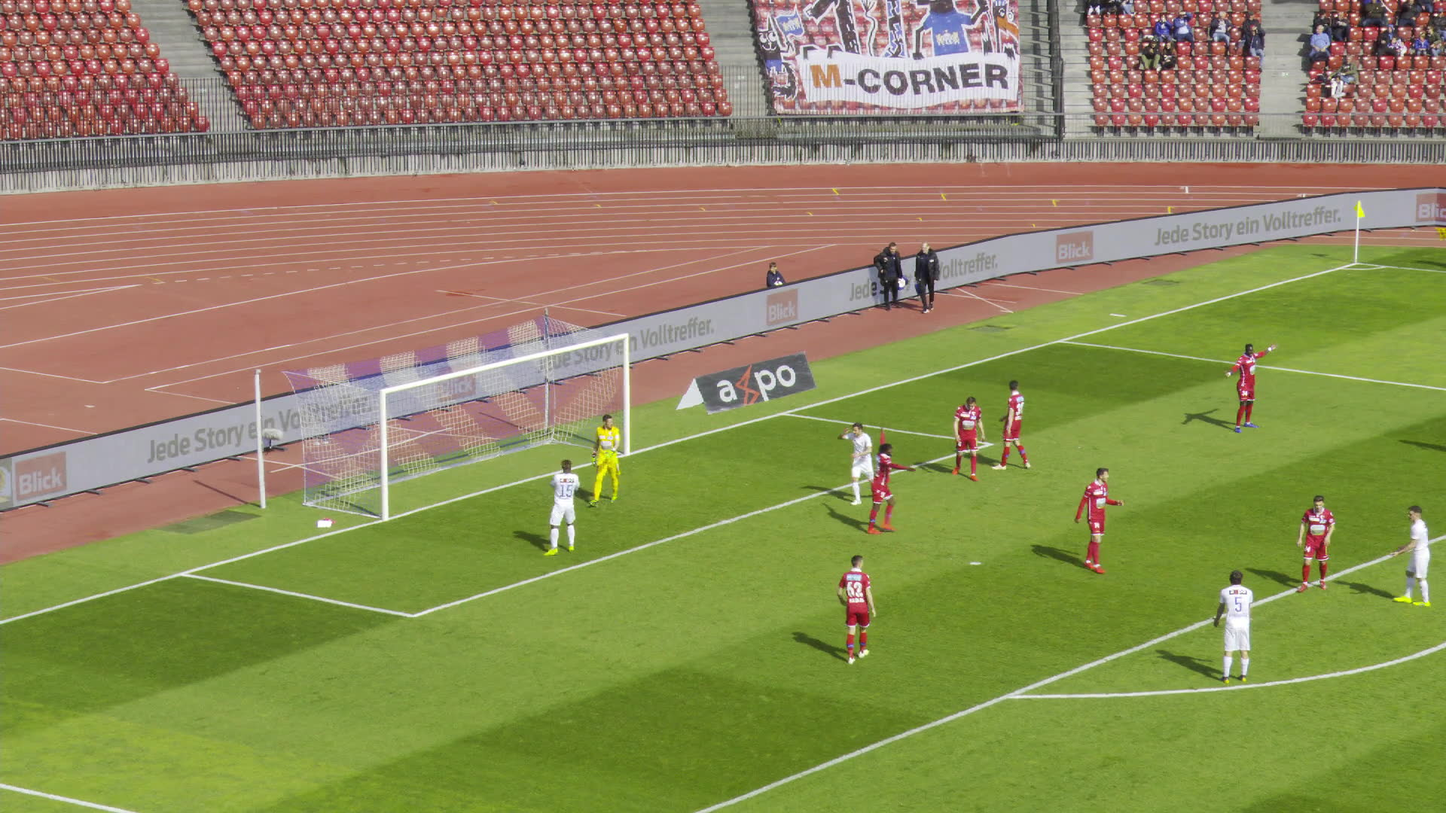player: (846, 431, 905, 534), (836, 554, 882, 661), (1390, 505, 1438, 605), (1211, 570, 1252, 684), (1227, 338, 1276, 431), (1077, 466, 1118, 571), (1294, 497, 1332, 592), (948, 394, 987, 480), (543, 461, 578, 555), (837, 419, 875, 504), (590, 413, 622, 506), (995, 379, 1027, 470)
